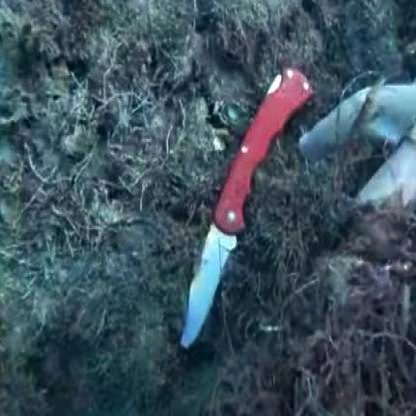misc: (188, 67, 312, 371)
